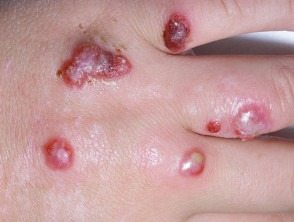Warts: (48, 34, 137, 87), (36, 129, 85, 174), (229, 98, 276, 143), (169, 141, 214, 181), (158, 11, 195, 54), (205, 114, 224, 141)
